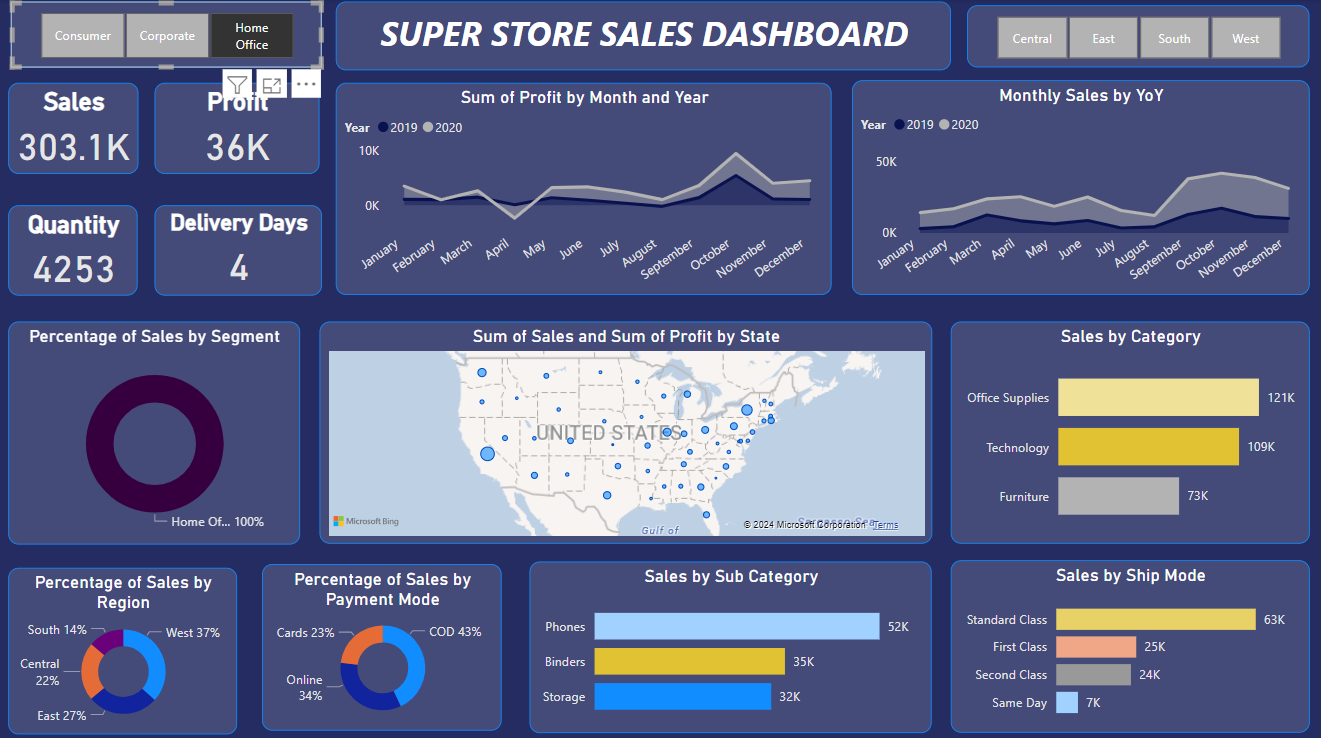

Layout of this report page (visuals, bound fields, positions):
{"tool":"powerbi","page":{"name":"Page 1","canvas":[1280,720],"ordinal":0},"visuals":[{"type":"clusteredBarChart","title":"Sales by Category","fields":{"Category":["SuperStore_Sales_Dataset.Category"],"Y":["Sum(SuperStore_Sales_Dataset.Sales)"]},"box":[920.2,311.2,346.1,214.7],"z":0},{"type":"clusteredBarChart","title":"Sales by Sub Category","fields":{"Category":["SuperStore_Sales_Dataset.Sub-Category"],"Y":["Sum(SuperStore_Sales_Dataset.Sales)"]},"box":[513.8,542.7,388.3,165.2],"z":1000},{"type":"clusteredBarChart","title":"Sales by Ship Mode","fields":{"Category":["SuperStore_Sales_Dataset.Ship Mode"],"Y":["Sum(SuperStore_Sales_Dataset.Sales)"]},"box":[920,541.2,346.2,166.2],"z":2000},{"type":"stackedAreaChart","title":"Monthly Sales by YoY","fields":{"Y":["Sum(SuperStore_Sales_Dataset.Sales)"],"Category":["SuperStore_Sales_Dataset.Order Date.Variation.Date Hierarchy.Month","SuperStore_Sales_Dataset.Order Date.Variation.Date Hierarchy.Day"],"Series":["SuperStore_Sales_Dataset.Order Date.Variation.Date Hierarchy.Year"]},"box":[825,78.8,441.2,207.5],"z":3000},{"type":"stackedAreaChart","fields":{"Category":["SuperStore_Sales_Dataset.Order Date.Variation.Date Hierarchy.Month","SuperStore_Sales_Dataset.Order Date.Variation.Date Hierarchy.Day"],"Series":["SuperStore_Sales_Dataset.Order Date.Variation.Date Hierarchy.Year"],"Y":["Sum(SuperStore_Sales_Dataset.Profit)"]},"box":[326.2,81.2,478.8,205],"z":4000},{"type":"map","fields":{"Category":["SuperStore_Sales_Dataset.State"],"Size":["Sum(SuperStore_Sales_Dataset.Sales)"]},"box":[311.2,311.2,591,214.7],"z":5000},{"type":"donutChart","title":"Percentage of Sales by Segment","fields":{"Category":["SuperStore_Sales_Dataset.Segment"],"Y":["Sum(SuperStore_Sales_Dataset.Sales)"]},"box":[11.2,311.2,281.2,215],"z":6000},{"type":"donutChart","title":"Percentage of Sales by Payment Mode","fields":{"Category":["SuperStore_Sales_Dataset.Payment Mode"],"Y":["Sum(SuperStore_Sales_Dataset.Sales)"]},"box":[255.7,545.1,231.6,160.4],"z":7000},{"type":"slicer","fields":{"Values":["SuperStore_Sales_Dataset.Region"]},"box":[936.2,6.2,330,60],"z":8000},{"type":"textbox","box":[326.2,2.5,593.8,66.2],"z":9000},{"type":"card","title":"Sales","fields":{"Values":["Sum(SuperStore_Sales_Dataset.Sales)"]},"box":[11.2,81.2,125,87.5],"z":10000},{"type":"card","title":"Quantity","fields":{"Values":["Sum(SuperStore_Sales_Dataset.Quantity)"]},"box":[11.2,198.8,125,87.5],"z":11000},{"type":"card","title":"Profit","fields":{"Values":["Sum(SuperStore_Sales_Dataset.Profit)"]},"box":[161.2,81.2,152.5,87.5],"z":12000},{"type":"card","title":"Delivery Days","fields":{"Values":["Avg(SuperStore_Sales_Dataset.AvgDelievery)"]},"box":[162.5,198.8,151.2,87.5],"z":13000},{"type":"donutChart","title":"Percentage of Sales by Region","fields":{"Category":["SuperStore_Sales_Dataset.Region"],"Y":["Sum(SuperStore_Sales_Dataset.Sales)"]},"box":[10.9,548.7,220.7,160.4],"z":14000},{"type":"slicer","fields":{"Values":["SuperStore_Sales_Dataset.Segment"]},"box":[11.2,2.5,300,63.8],"z":15000}]}

Visuals, with their boxes in screenshot pixels (x1, y1, x2, y2), scaled from the page's 1280x720 canvas onto the 1321x738 screenshot:
"Sales by Category" clusteredBarChart: rect(950, 319, 1307, 539)
"Sales by Sub Category" clusteredBarChart: rect(530, 556, 931, 726)
"Sales by Ship Mode" clusteredBarChart: rect(949, 555, 1307, 725)
"Monthly Sales by YoY" stackedAreaChart: rect(851, 81, 1307, 293)
stackedAreaChart - SuperStore_Sales_Dataset.Order Date.Variation.Date Hierarchy.Month x SuperStore_Sales_Dataset.Order Date.Variation.Date Hierarchy.Day: rect(337, 83, 831, 293)
map - SuperStore_Sales_Dataset.State x Sum(SuperStore_Sales_Dataset.Sales): rect(321, 319, 931, 539)
"Percentage of Sales by Segment" donutChart: rect(12, 319, 302, 539)
"Percentage of Sales by Payment Mode" donutChart: rect(264, 559, 503, 723)
slicer - SuperStore_Sales_Dataset.Region: rect(966, 6, 1307, 68)
textbox: rect(337, 3, 949, 70)
"Sales" card: rect(12, 83, 141, 173)
"Quantity" card: rect(12, 204, 141, 293)
"Profit" card: rect(166, 83, 324, 173)
"Delivery Days" card: rect(168, 204, 324, 293)
"Percentage of Sales by Region" donutChart: rect(11, 562, 239, 727)
slicer - SuperStore_Sales_Dataset.Segment: rect(12, 3, 321, 68)
